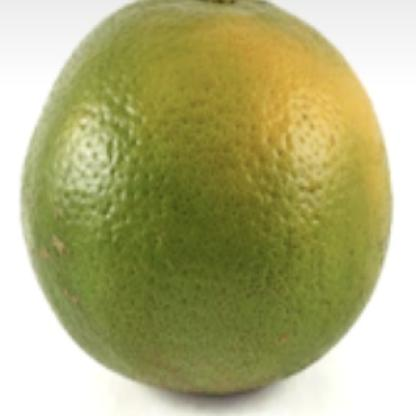fresh: (20, 1, 394, 399)
